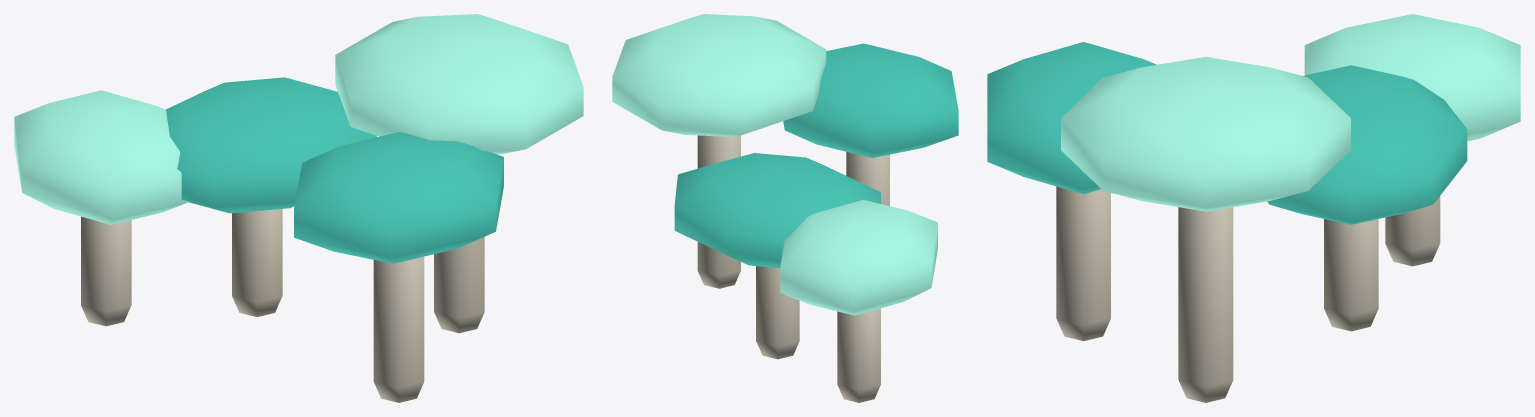
Rendered from prop_mushundefined_9468.glb.
3 renders of one model, left to right at view 1: azimuth 30°, elevation 25°; view 2: azimuth 150°, elevation 25°; view 3: azimuth 270°, elevation 25°, orthographic. The views are drawn at different scales.
Visible parts, largest first — view 1: prop_mushundefined_9468; view 2: prop_mushundefined_9468; view 3: prop_mushundefined_9468.
Part boxes in pixels (x1=…): prop_mushundefined_9468: x1=14, y1=14, x2=583, y2=402; prop_mushundefined_9468: x1=612, y1=14, x2=958, y2=402; prop_mushundefined_9468: x1=987, y1=14, x2=1520, y2=402.
Size of the model in its own units: 0.3936 by 0.2458 by 0.3719.
2 materials, 2 textured.
